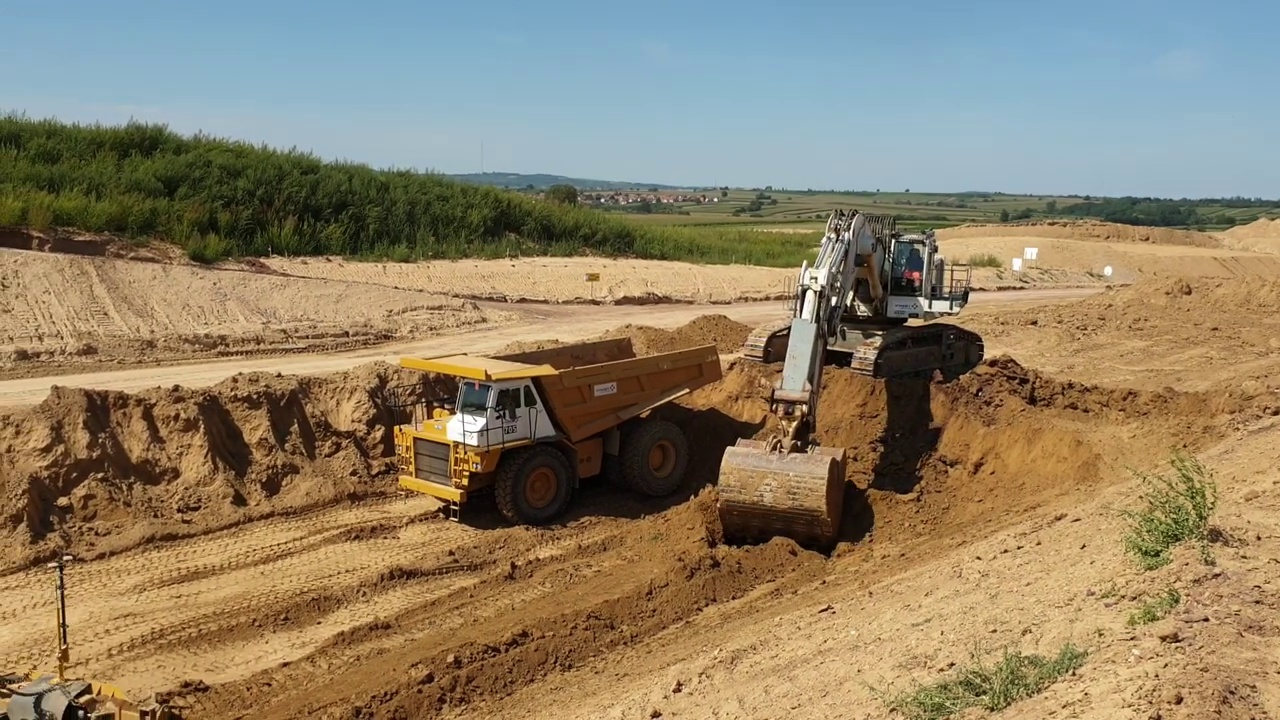bulldozer: (4, 550, 189, 720)
excavator: (715, 206, 985, 557)
truck: (374, 327, 722, 531)
